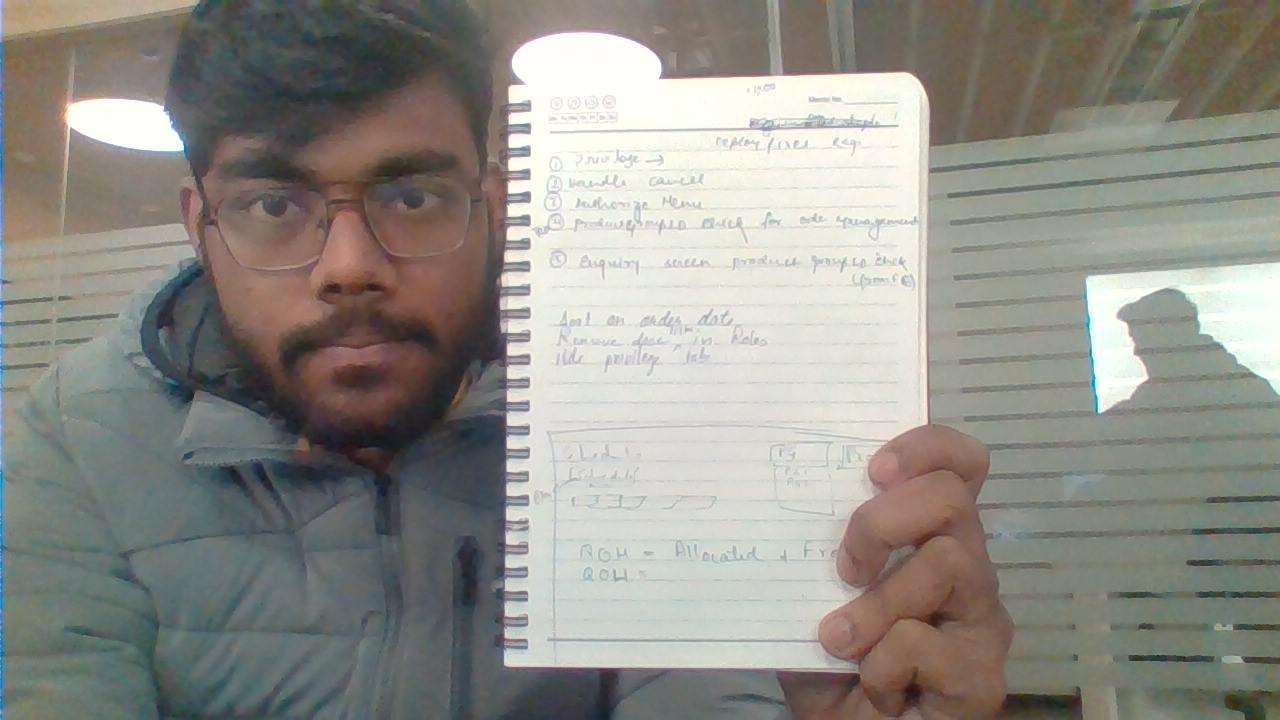notebook: (504, 69, 942, 681)
